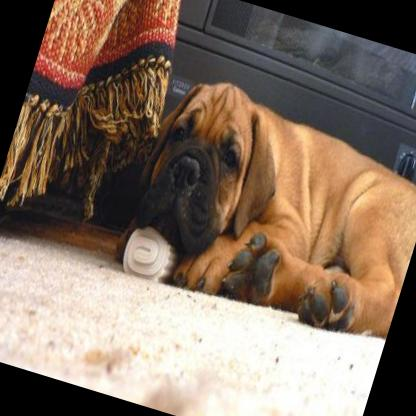bull_mastiff: (112, 64, 416, 345)
